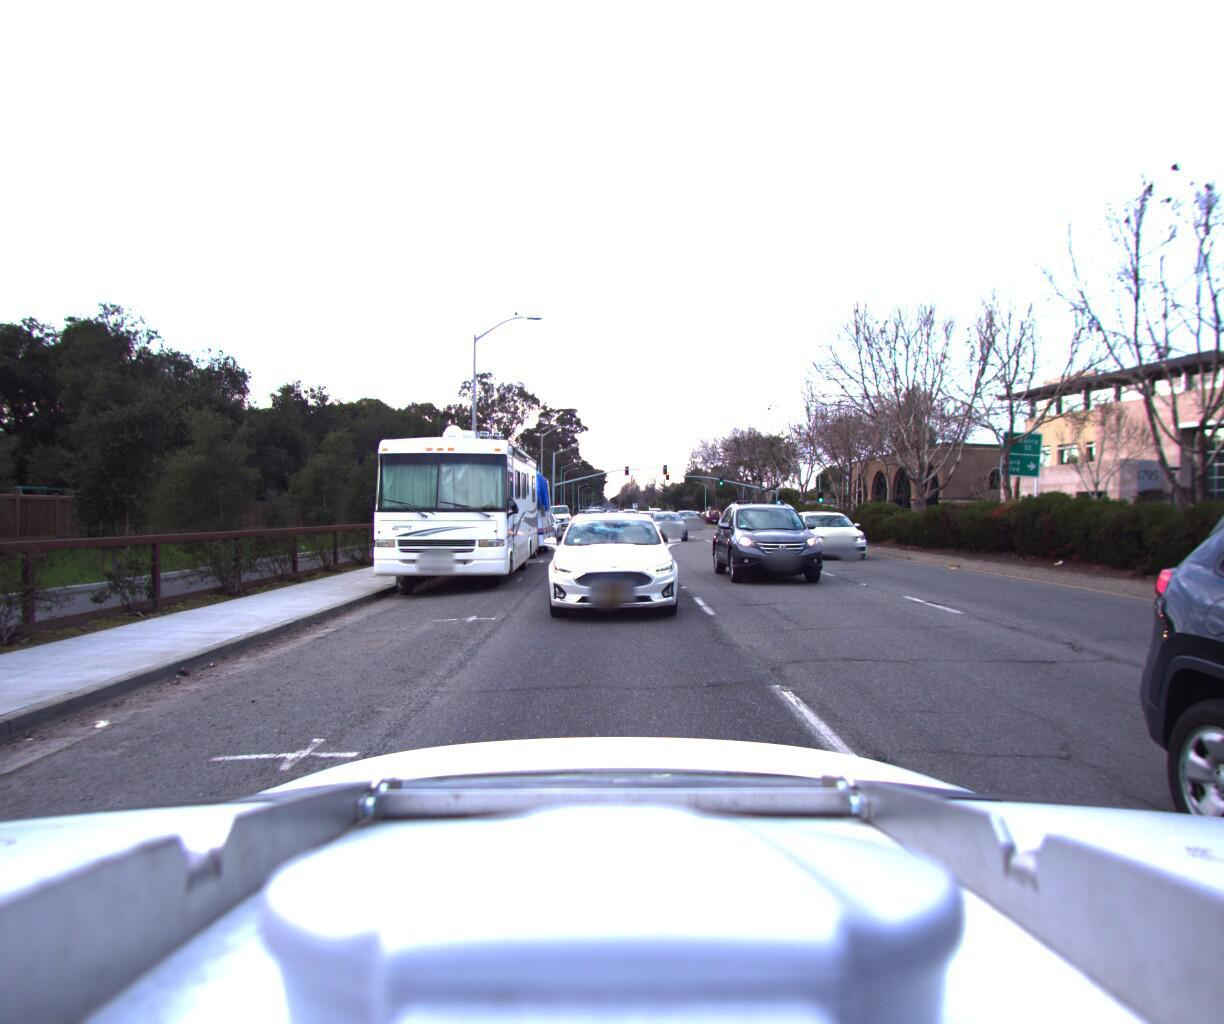bus: (353, 395, 540, 597)
car: (538, 513, 691, 640), (712, 498, 841, 596), (791, 509, 893, 563), (642, 511, 694, 545), (627, 508, 660, 531), (674, 503, 708, 525), (696, 506, 720, 522)
other_vehicle: (455, 465, 551, 558)
truck: (541, 500, 569, 528)
